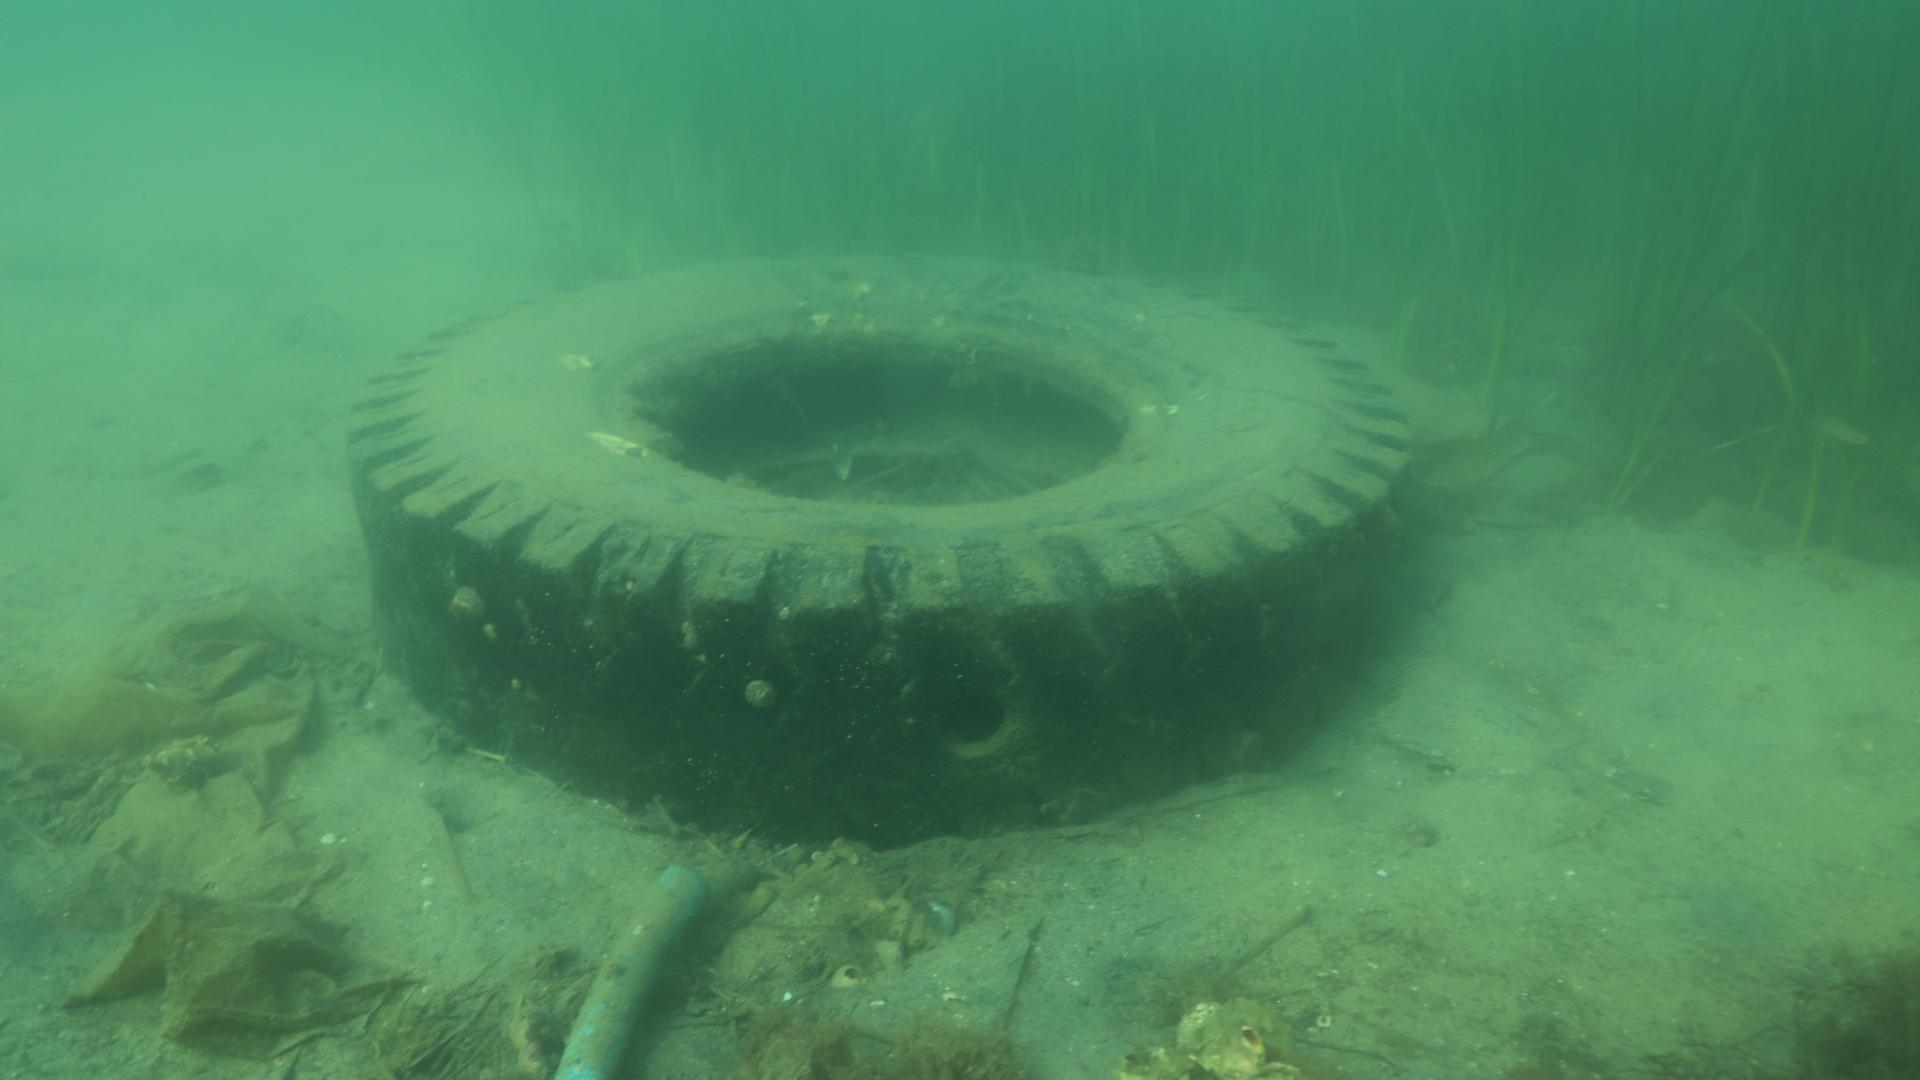tire: (345, 252, 1411, 851)
